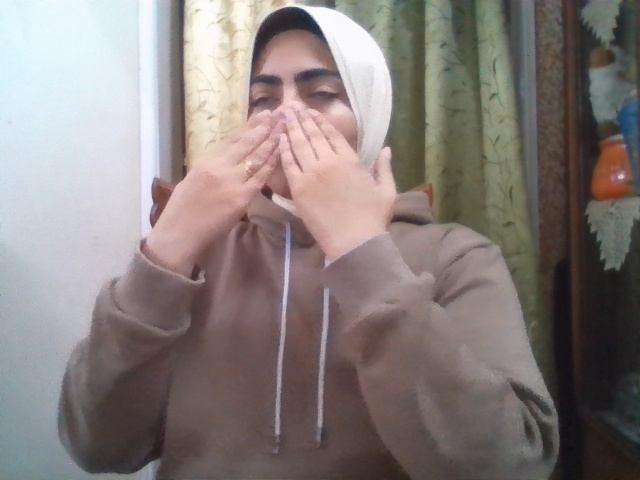thanks: (148, 103, 397, 249)
